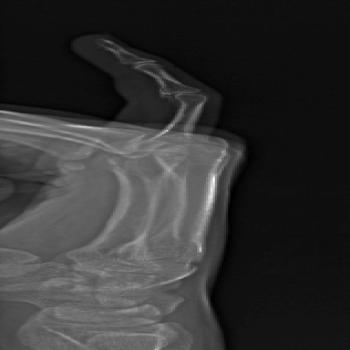Fracture: (153, 87, 205, 102)
